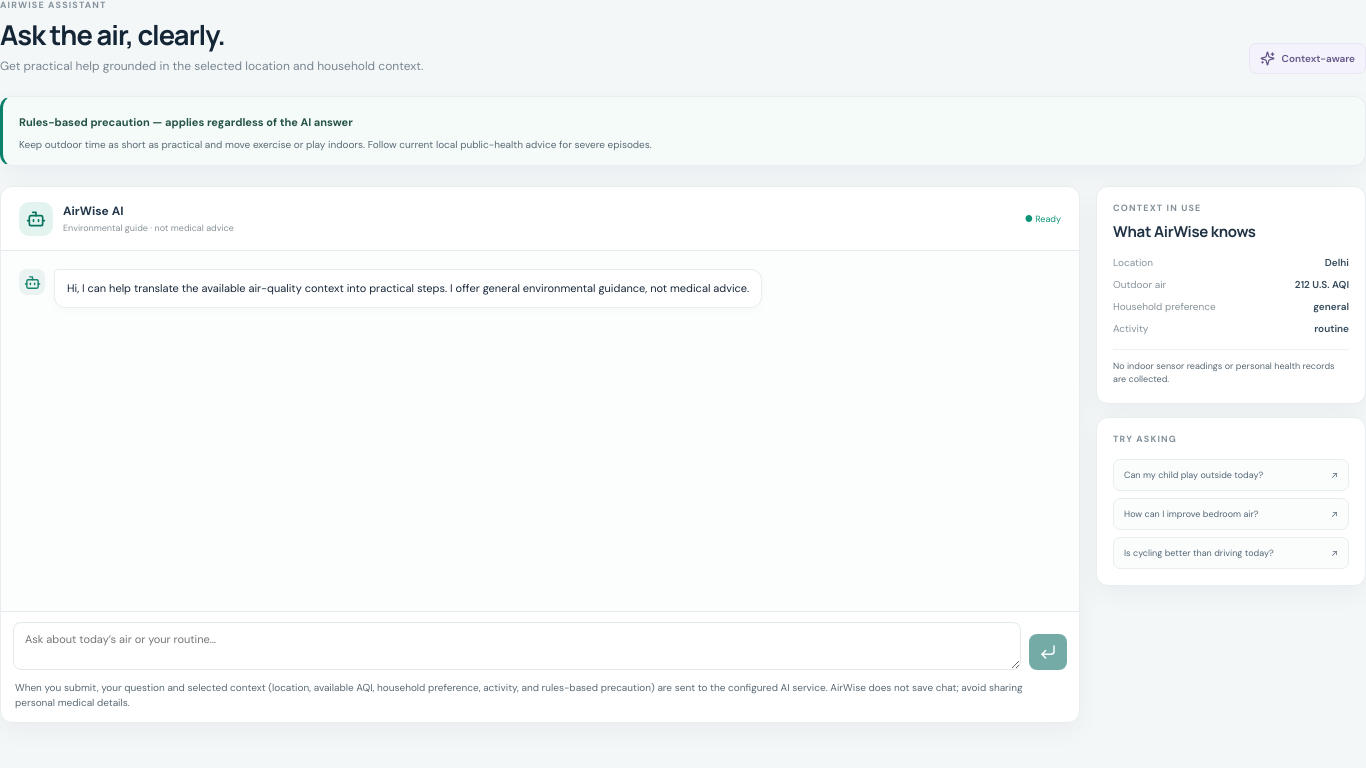
Test case: assistant context and request ordering › shows deterministic guidance and an availability notice when AI is unavailable
Type "What should I do?" into the text box named "Ask a question".
click(517, 646); type("What should I do?")  # box [13, 622, 1021, 670]
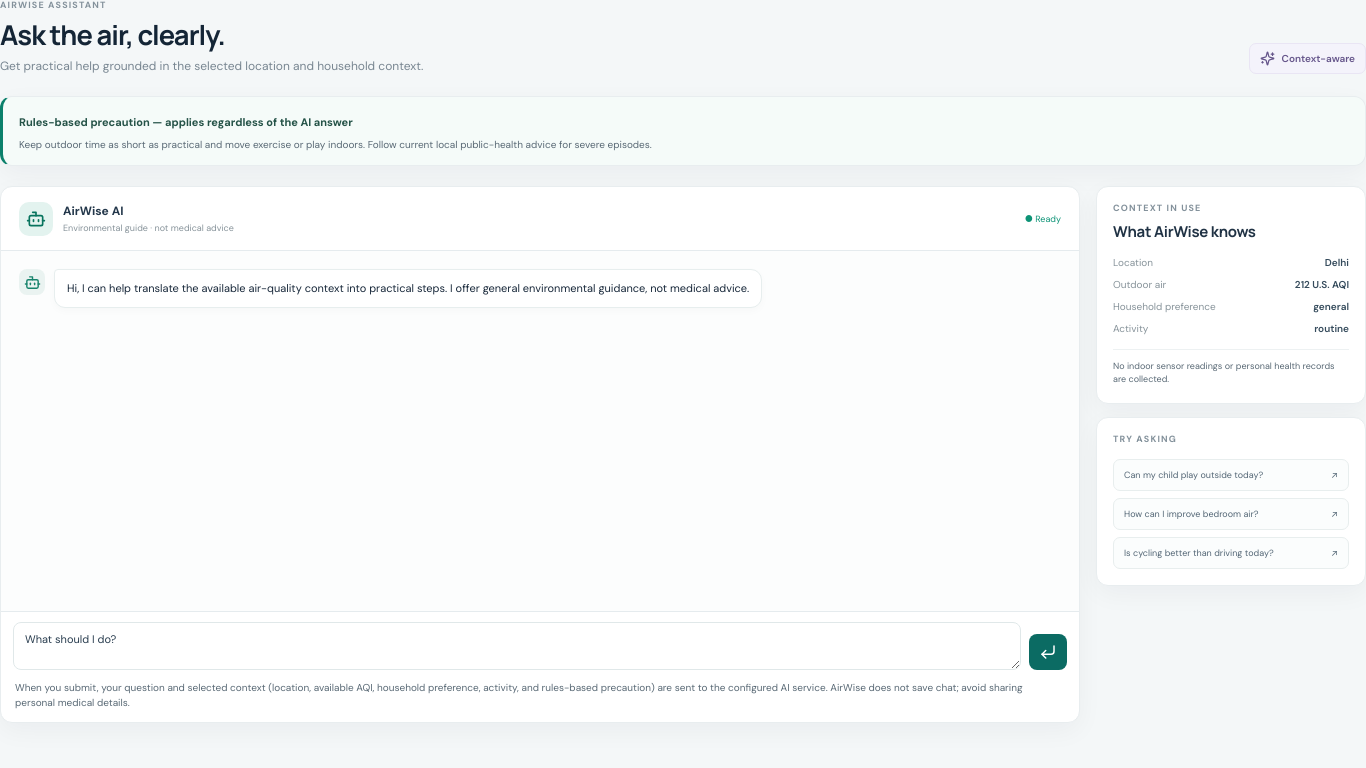
Click the button named "Send question".
click(1048, 652)  # box [1029, 634, 1067, 670]
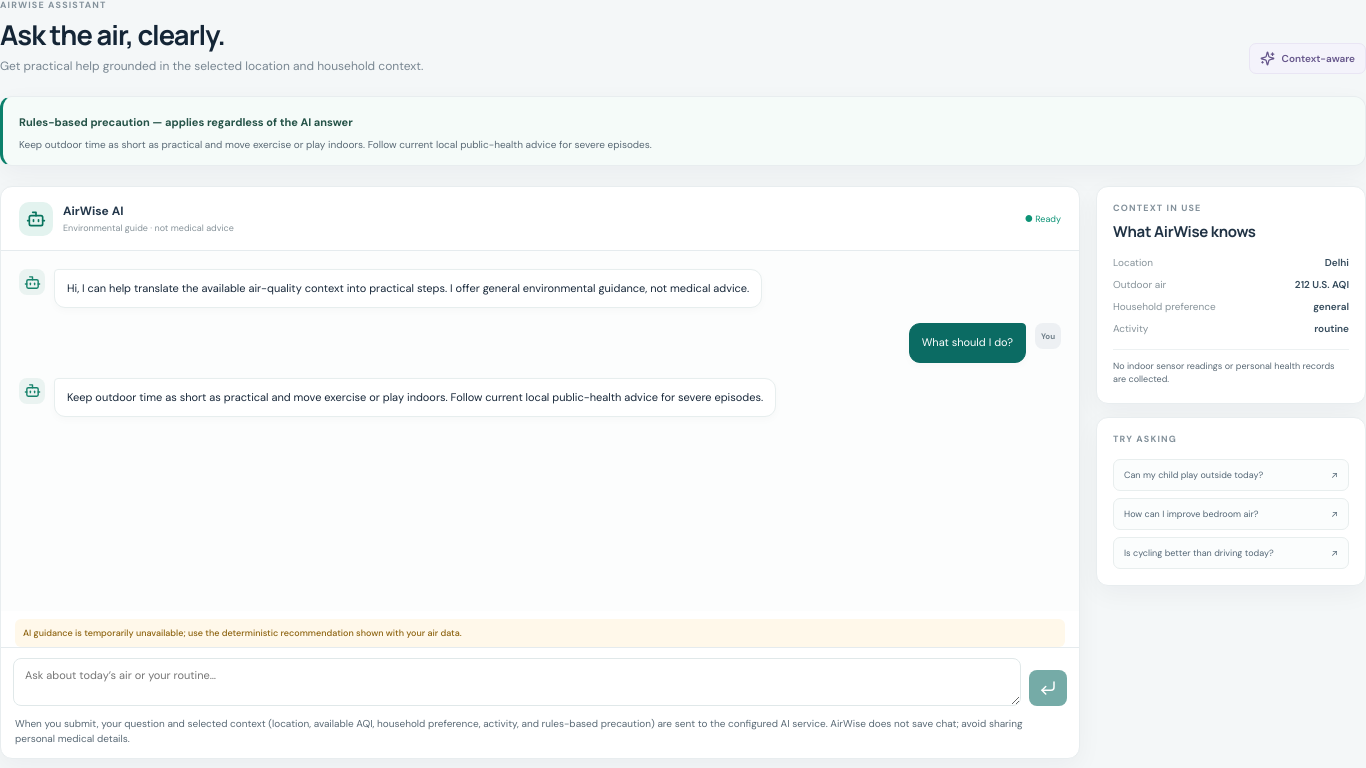
expect the message shows "AI guidance is temporarily unavailable": met, box [23, 627, 462, 639]
expect the text "Keep outdoor time as short as practical and move exercise or play indoors. Follow current local public-health advice for" is shown 2 times: met, box [19, 138, 652, 151]; [67, 388, 763, 406]
